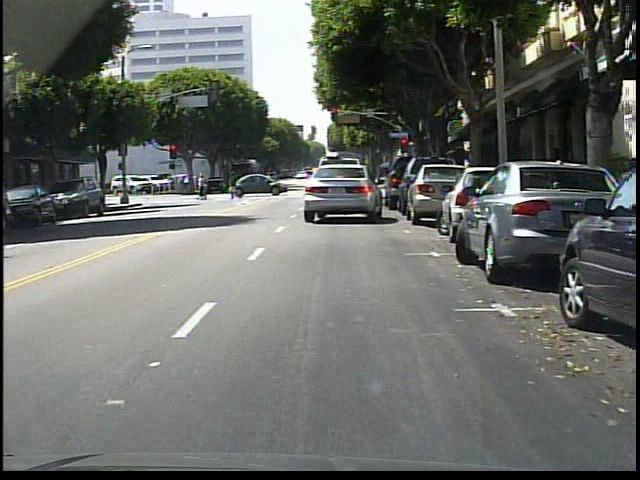person: (229, 172, 242, 201), (197, 174, 210, 200), (267, 172, 275, 191)
